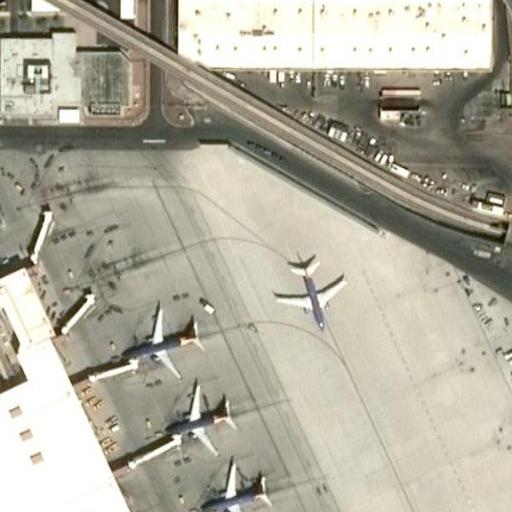Aircraft: (272, 242, 345, 328), (163, 373, 239, 447), (122, 301, 199, 374), (196, 452, 273, 512)
